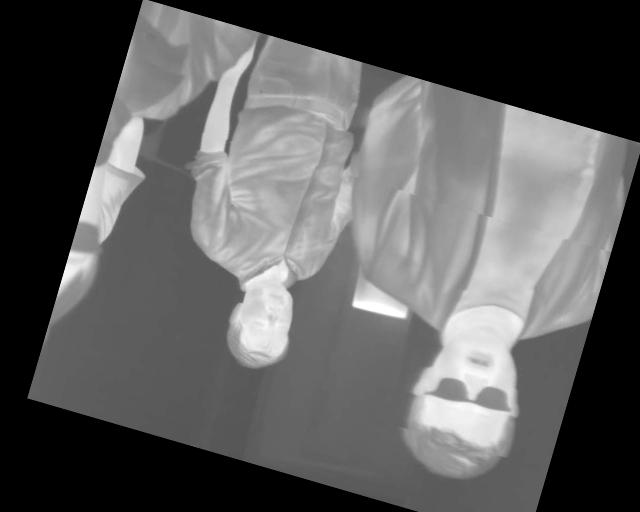face: (390, 313, 541, 494), (216, 273, 305, 378)
